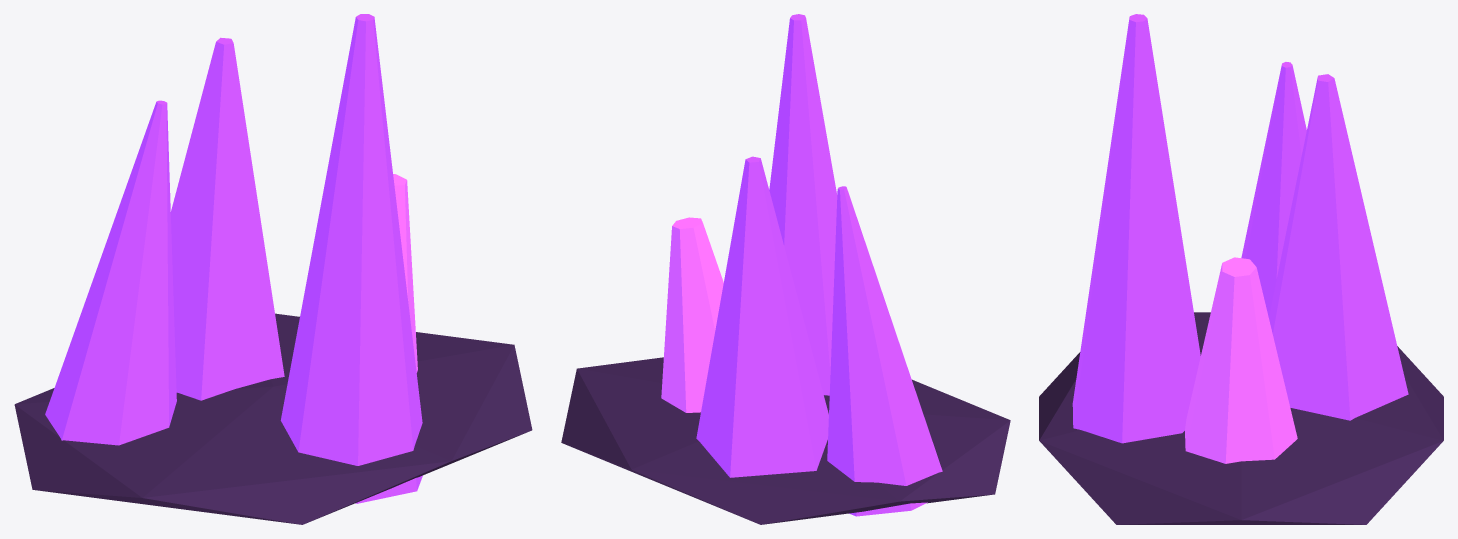
The model's file is mire_crystal_e.glb.
3 views of the same model, side by side, from view 1: azimuth 30°, elevation 25°; view 2: azimuth 150°, elevation 25°; view 3: azimuth 270°, elevation 25° (orthographic). The views are drawn at different scales.
Visible parts, largest first — view 1: Mire_Base.004, Crystal_4.004, Crystal_2.004, Crystal_3.004, Crystal_1.004; view 2: Mire_Base.004, Crystal_2.004, Crystal_3.004, Crystal_4.004, Crystal_1.004; view 3: Mire_Base.004, Crystal_4.004, Crystal_2.004, Crystal_1.004, Crystal_3.004.
Boxes of the visible parts, x1=… form: Mire_Base.004: x1=14, y1=313, x2=532, y2=524; Crystal_4.004: x1=280, y1=14, x2=422, y2=503; Crystal_2.004: x1=170, y1=37, x2=284, y2=400; Crystal_3.004: x1=45, y1=100, x2=176, y2=445; Crystal_1.004: x1=393, y1=174, x2=417, y2=372; Mire_Base.004: x1=561, y1=357, x2=1010, y2=524; Crystal_2.004: x1=696, y1=156, x2=828, y2=477; Crystal_3.004: x1=827, y1=186, x2=942, y2=516; Crystal_4.004: x1=769, y1=14, x2=837, y2=395; Crystal_1.004: x1=661, y1=217, x2=723, y2=412; Mire_Base.004: x1=1039, y1=312, x2=1443, y2=524; Crystal_4.004: x1=1072, y1=14, x2=1200, y2=443; Crystal_2.004: x1=1269, y1=74, x2=1408, y2=420; Crystal_1.004: x1=1185, y1=257, x2=1297, y2=463; Crystal_3.004: x1=1241, y1=62, x2=1306, y2=317.
Bounding box in the file's own units: 1.65 × 1.5 × 1.22.
